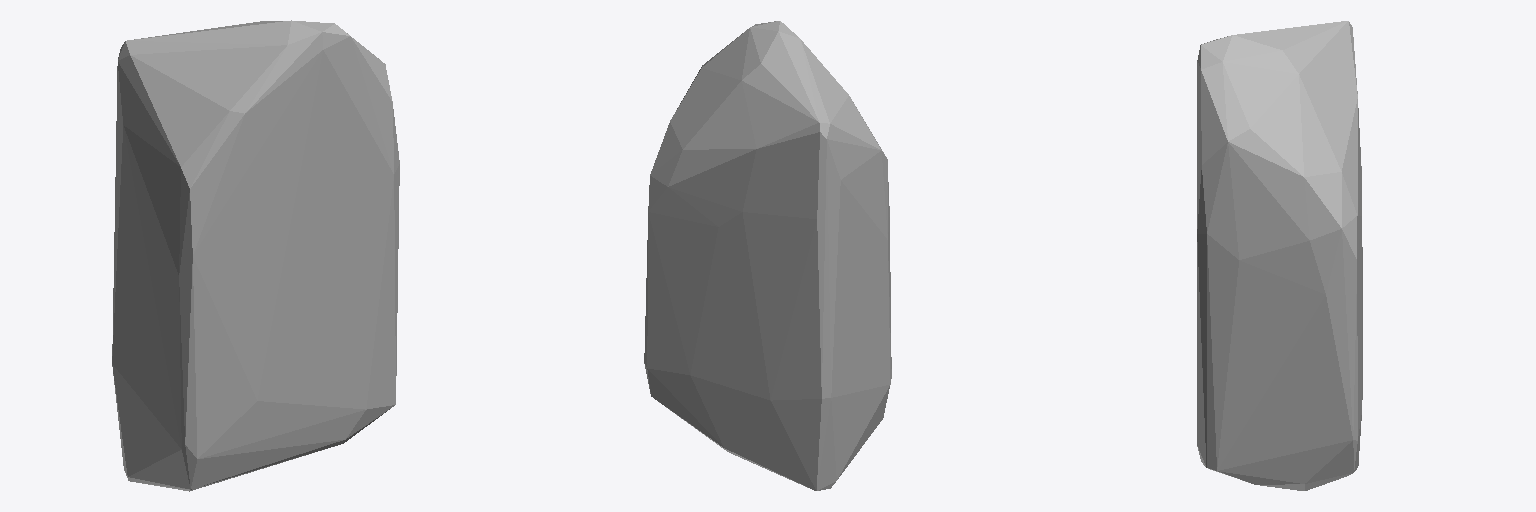
URDF robot description (root):
<robot name="root">
  <link name="link_rock9_convex_piece_0">
    <inertial>
      <origin rpy="0 0 0" xyz="0 0 0"/>
      <mass value="1.09E+06"/>
      <inertia ixx="2.14E+09" ixy="3.04E+08" ixz="-1.27E+08" iyy="2.67E+09" iyz="1.88E+08" izz="1.70E+09"/>
    </inertial>
    <visual>
      <origin rpy="0 0 0" xyz="0 0 0"/>
      <geometry>
        <mesh filename="rock9_convex_piece_0.obj" scale="1.0000E+00 1.0000E+00 1.0000E+00"/>
      </geometry>
      <material name="">
        <color rgba="7.50E-01 7.50E-01 7.50E-01 1"/>
      </material>
    </visual>
    <collision>
      <origin rpy="0 0 0" xyz="0 0 0"/>
      <geometry>
        <mesh filename="rock9_convex_piece_0.obj" scale="1.0000E+00 1.0000E+00 1.0000E+00"/>
      </geometry>
    </collision>
  </link>
</robot>

--- What the picture shows (computed from the rendered views, not written in the file) ---
The picture shows the robot from 3 angles, left to right: view 1: azimuth 30°, elevation 25°; view 2: azimuth 150°, elevation 25°; view 3: azimuth 270°, elevation 25°; orthographic projection.
Model root with 1 links and 0 joints (none), rooted at link_rock9_convex_piece_0, posed all joints at 0.
Links seen in each view (by area): view 1: link_rock9_convex_piece_0; view 2: link_rock9_convex_piece_0; view 3: link_rock9_convex_piece_0.
Boxes of the visible links, <box> form: link_rock9_convex_piece_0: <box>112,20,399,491</box>; link_rock9_convex_piece_0: <box>644,21,891,490</box>; link_rock9_convex_piece_0: <box>1197,21,1362,490</box>.
Size in the robot's own frame: 102 by 67.63 by 207 metres.
Meshes: 1 distinct files referenced, 1 mesh visuals loaded (1 OBJ).